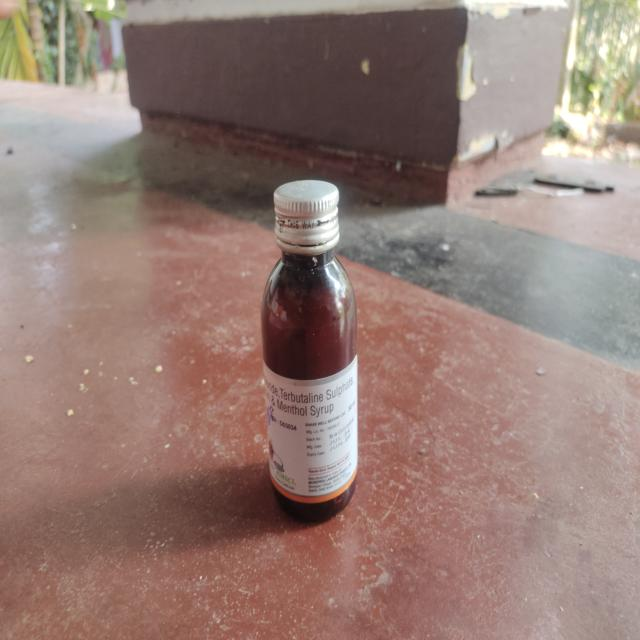plastic: (257, 172, 362, 526)
